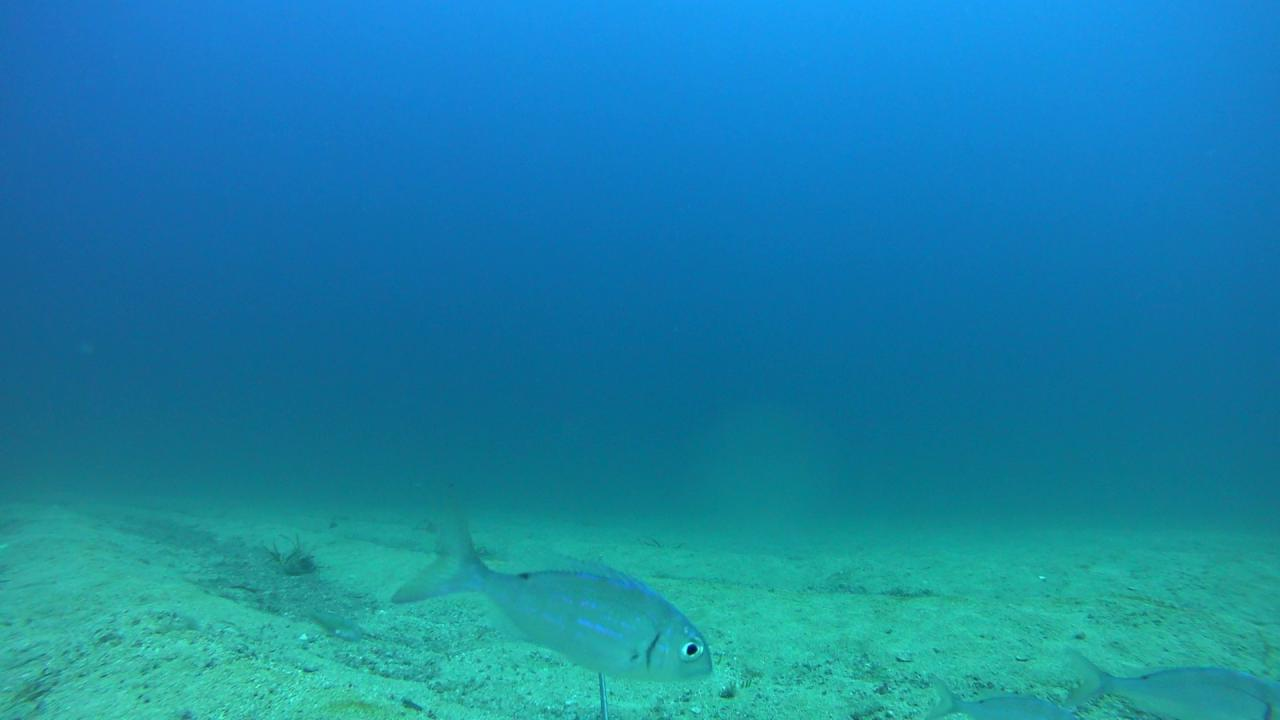pagellus: (391, 484, 714, 684)
